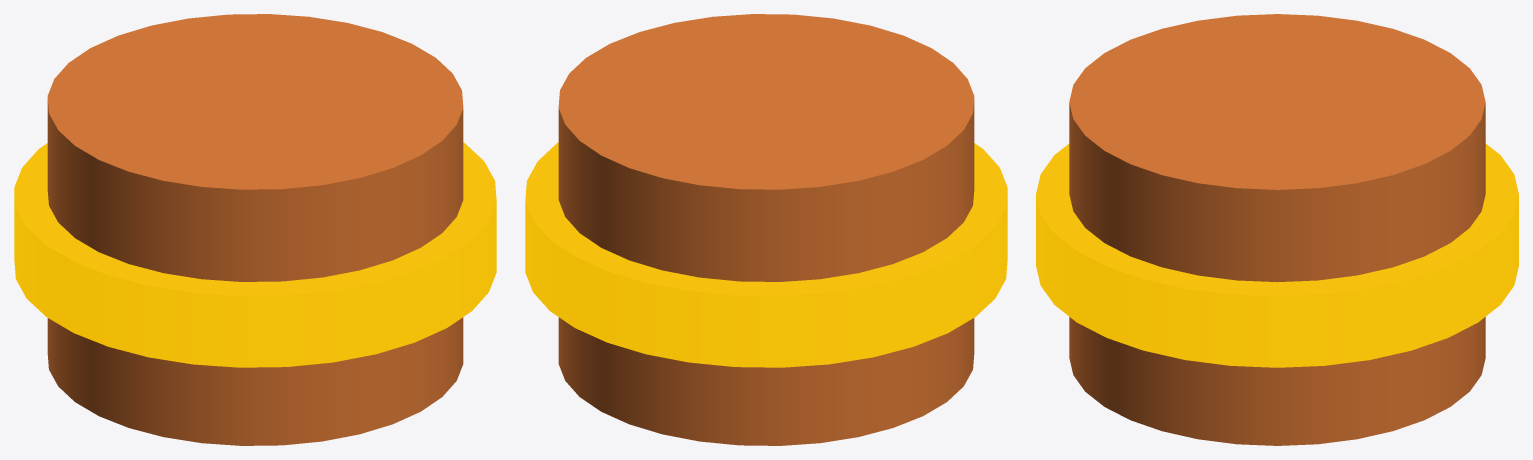
Rendered from pad.glb.
The picture shows the model from 3 angles, left to right: view 1: azimuth 30°, elevation 25°; view 2: azimuth 150°, elevation 25°; view 3: azimuth 270°, elevation 25°; orthographic projection.
Parts seen in each view (by area): view 1: Cylinder, Cylinder.001; view 2: Cylinder, Cylinder.001; view 3: Cylinder, Cylinder.001.
Boxes of the visible parts, box(x1,y1,x2,y2) form: Cylinder: box(47, 14, 463, 445); Cylinder.001: box(14, 142, 496, 367); Cylinder: box(558, 14, 974, 445); Cylinder.001: box(525, 142, 1007, 367); Cylinder: box(1069, 14, 1485, 445); Cylinder.001: box(1036, 143, 1518, 367).
Size of the model in its own units: 0.9095 by 0.532 by 0.9095.
